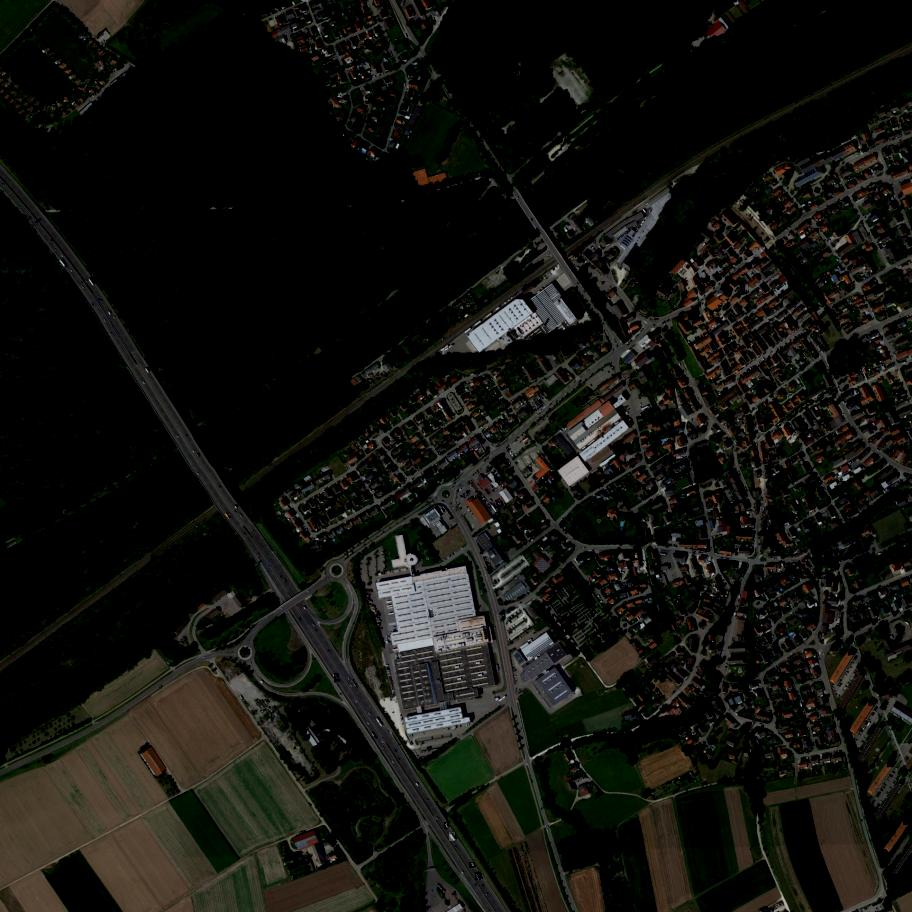large-vehicle: (449, 832, 457, 840), (475, 872, 482, 880), (334, 673, 339, 682), (469, 863, 475, 868), (444, 823, 448, 829)
